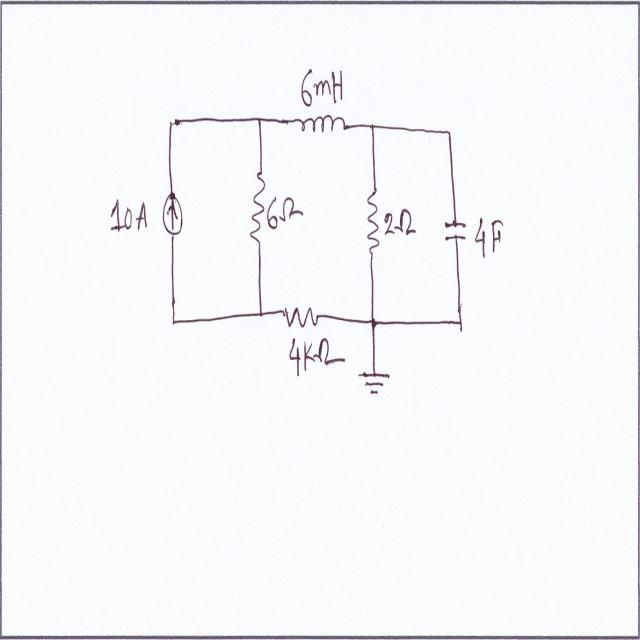capacitor: (444, 219, 468, 247)
current_source: (160, 191, 186, 237)
ground: (356, 364, 392, 404)
inductor: (288, 111, 348, 139)
resistor: (249, 168, 267, 252), (364, 188, 382, 253), (283, 304, 319, 330)
